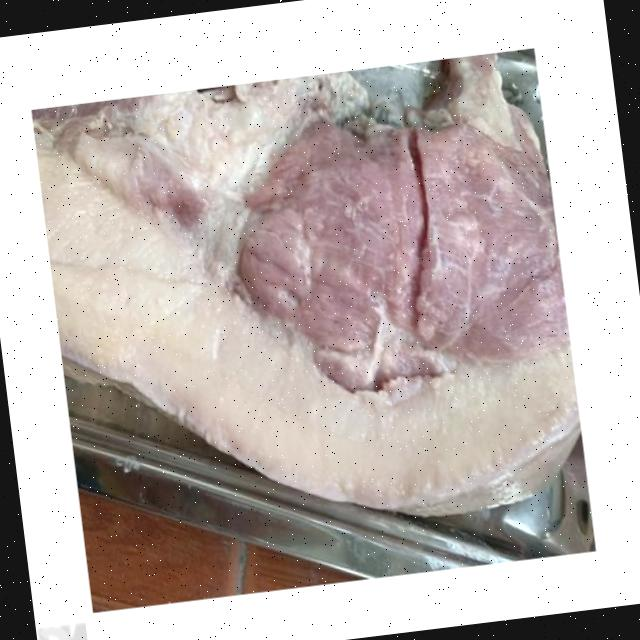rotten meat: (9, 27, 624, 626)
